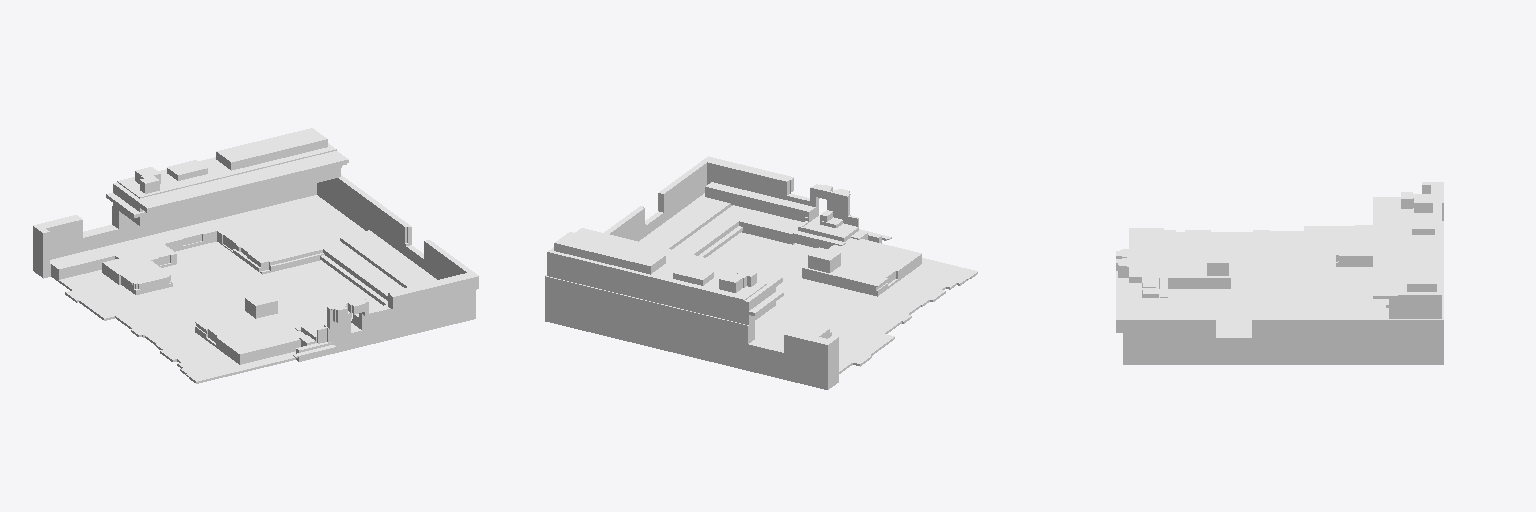
The model's file is BaseEnvironment.obj.
3 renders of one model, left to right at view 1: azimuth 30°, elevation 25°; view 2: azimuth 150°, elevation 25°; view 3: azimuth 270°, elevation 25°, orthographic.
Parts seen in each view (by area): view 1: object 1; view 2: object 1; view 3: object 1.
Part boxes in pixels (x1,y1,x2,y2): object 1: (33,128,478,383); object 1: (545,156,977,389); object 1: (1116,182,1443,364).
Size of the model in its own units: 25.6 by 6.9 by 25.6.